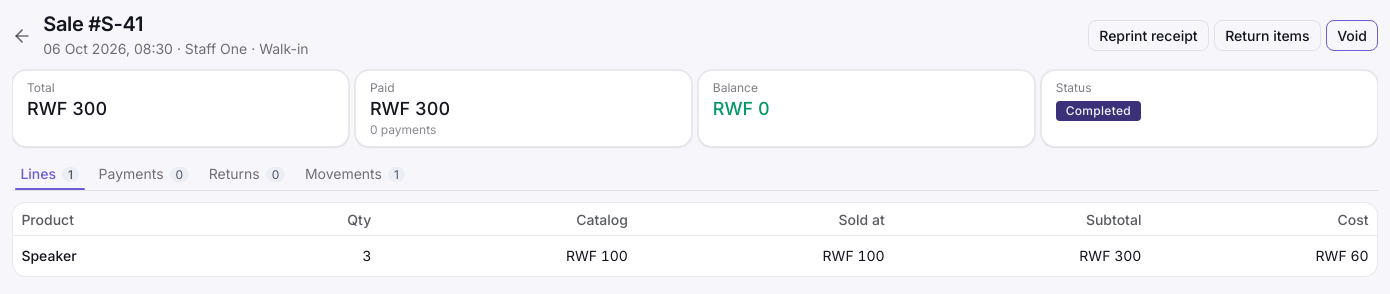
Test case: SaleDetailPageClient › shows lines with catalog price and cost, and the stock movements
Expected: the heading "Sale #S-41" is shown, [43,12,143,36]
Expected: the column heading "Cost" is shown, [1150,204,1377,236]
Click the tab "Movements1" at (355,174), box [296,159,413,190]
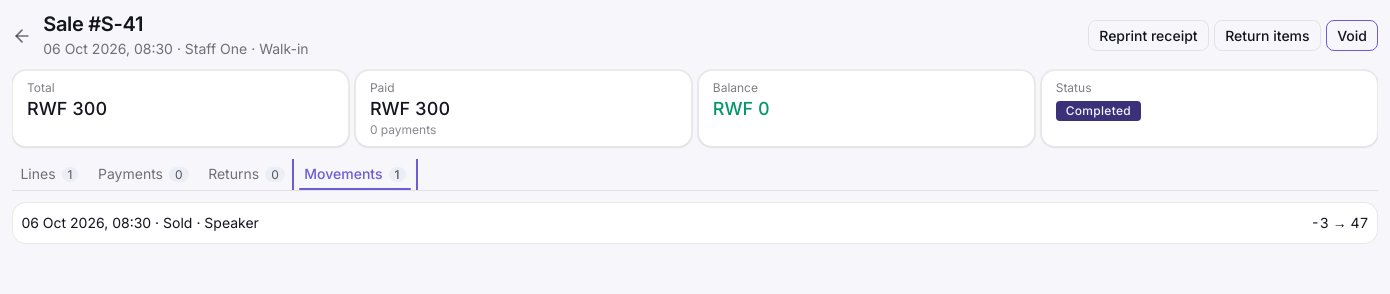
Expected: the text "Sold · Speaker" is shown, [21,213,259,233]
Expected: the text "-3 → 47" is shown, [1311,213,1369,233]
